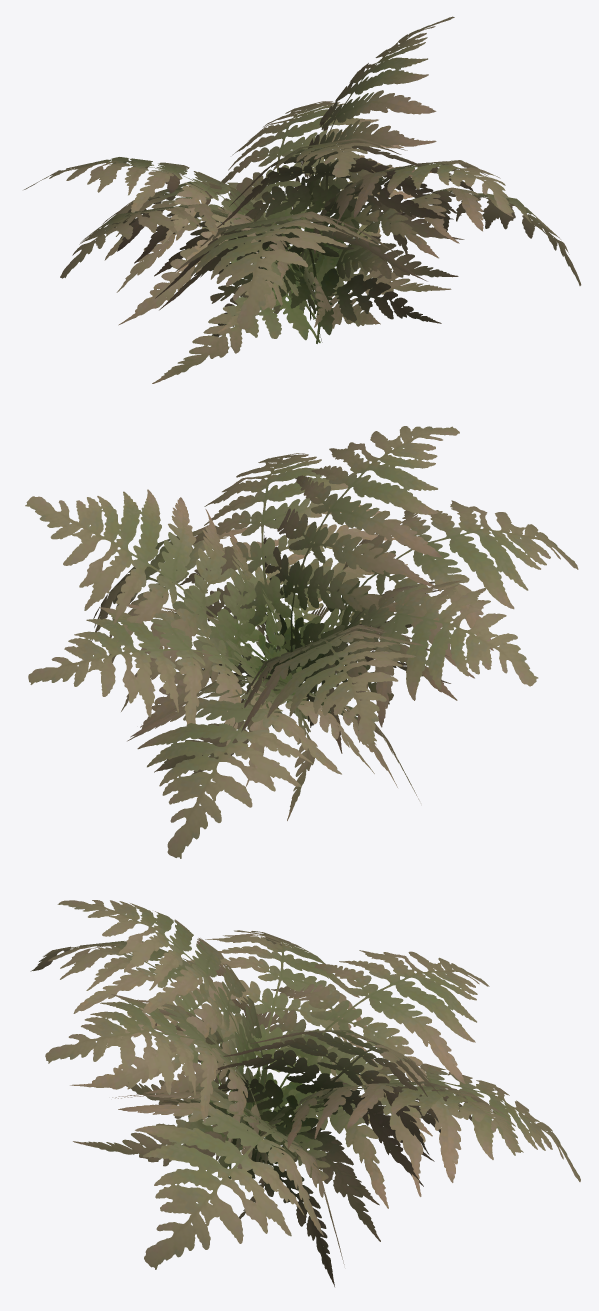
Rendered from NATURE_FERN_00.fbx.
The picture shows the model from 3 angles, top to bottom: view 1: azimuth 30°, elevation 25°; view 2: azimuth 150°, elevation 25°; view 3: azimuth 270°, elevation 25°; orthographic projection. The views are drawn at different scales.
Visible parts, largest first — view 1: NATURE_FERN_00; view 2: NATURE_FERN_00; view 3: NATURE_FERN_00.
Part boxes in pixels (left/top/right/bottom): NATURE_FERN_00: left=24, top=16, right=581, bottom=383; NATURE_FERN_00: left=25, top=426, right=578, bottom=858; NATURE_FERN_00: left=30, top=900, right=580, bottom=1286.
Size of the model in its own units: 182 by 110 by 182.
Materials: 1 (1 with a texture image).
